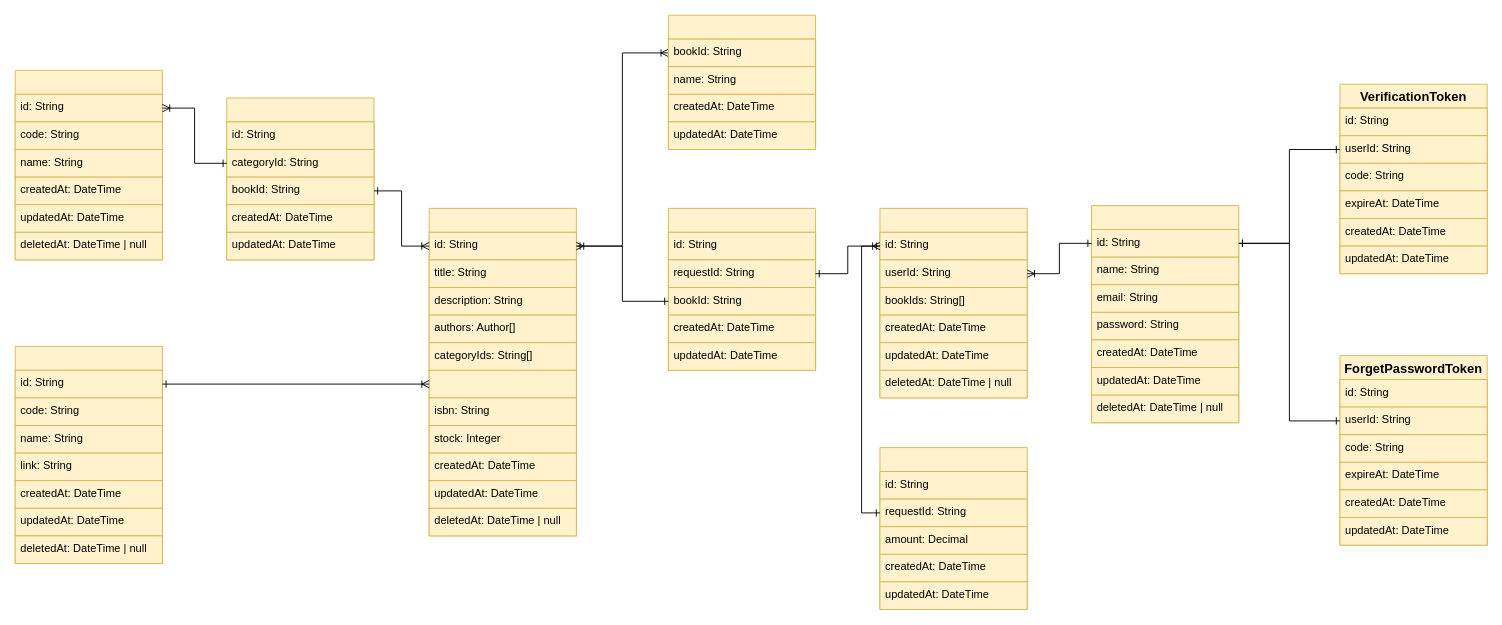
Some shapes in this 1502 by 625 pixel diagram are drawn without their labels. The box of each missing label's shape, as (x1, y1, x2, y2) in pixels:
Author: (667, 14, 816, 150)
Book: (428, 207, 576, 536)
BookCategoryPivot: (226, 97, 374, 260)
BookRequestPivot: (667, 207, 816, 370)
Category: (14, 69, 162, 260)
Penalty: (879, 447, 1027, 610)
Publisher: (14, 345, 162, 564)
publisherId: String: (428, 369, 576, 398)
Request: (879, 207, 1027, 398)
User: (1091, 205, 1239, 423)
